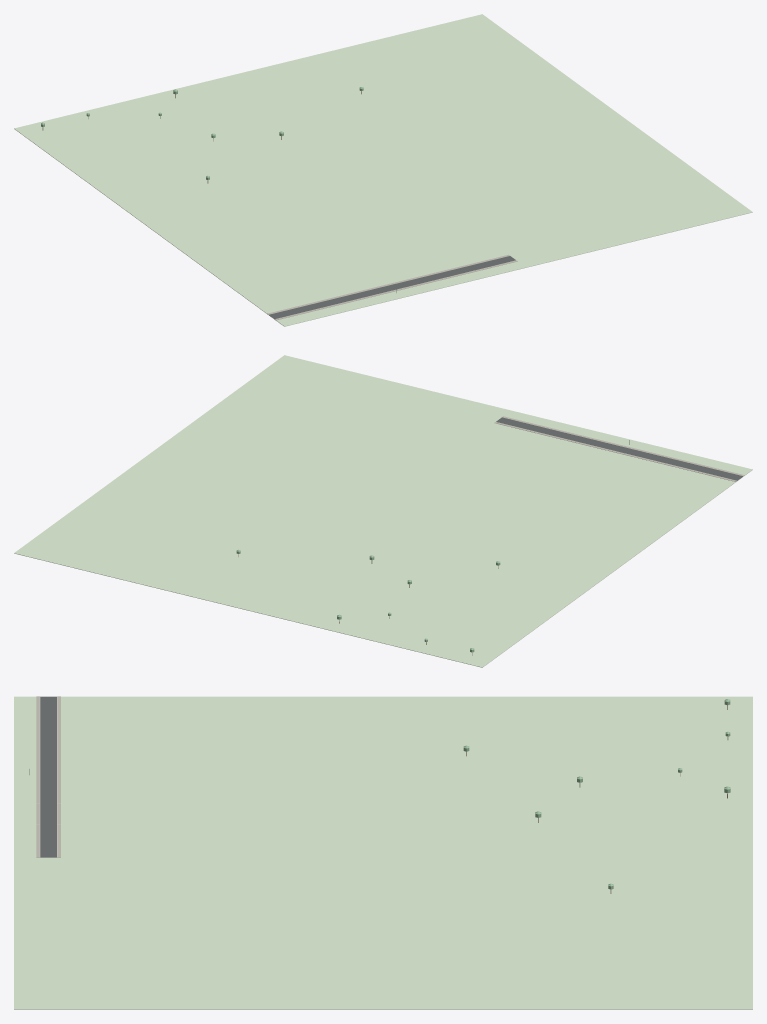
The model's file is chunk_7_5_low.glb.
The picture shows the model from 3 angles, top to bottom: view 1: azimuth 30°, elevation 25°; view 2: azimuth 150°, elevation 25°; view 3: azimuth 270°, elevation 25°; orthographic projection. The views are drawn at different scales.
Parts seen in each view (by area): view 1: city_grass, city_world_asphalt, city_world_sidewalk; view 2: city_grass, city_world_asphalt, city_world_sidewalk; view 3: city_grass, city_world_asphalt, city_world_sidewalk.
Boxes of the visible parts, x1=… form: city_grass: x1=14, y1=14, x2=752, y2=326; city_world_asphalt: x1=269, y1=256, x2=515, y2=318; city_world_sidewalk: x1=267, y1=254, x2=517, y2=320; city_grass: x1=14, y1=355, x2=752, y2=667; city_world_asphalt: x1=496, y1=417, x2=742, y2=480; city_world_sidewalk: x1=494, y1=416, x2=744, y2=481; city_grass: x1=14, y1=696, x2=752, y2=1009; city_world_asphalt: x1=40, y1=696, x2=56, y2=857; city_world_sidewalk: x1=36, y1=696, x2=60, y2=857.
Size of the model in its own units: 512 by 9.51 by 512.
